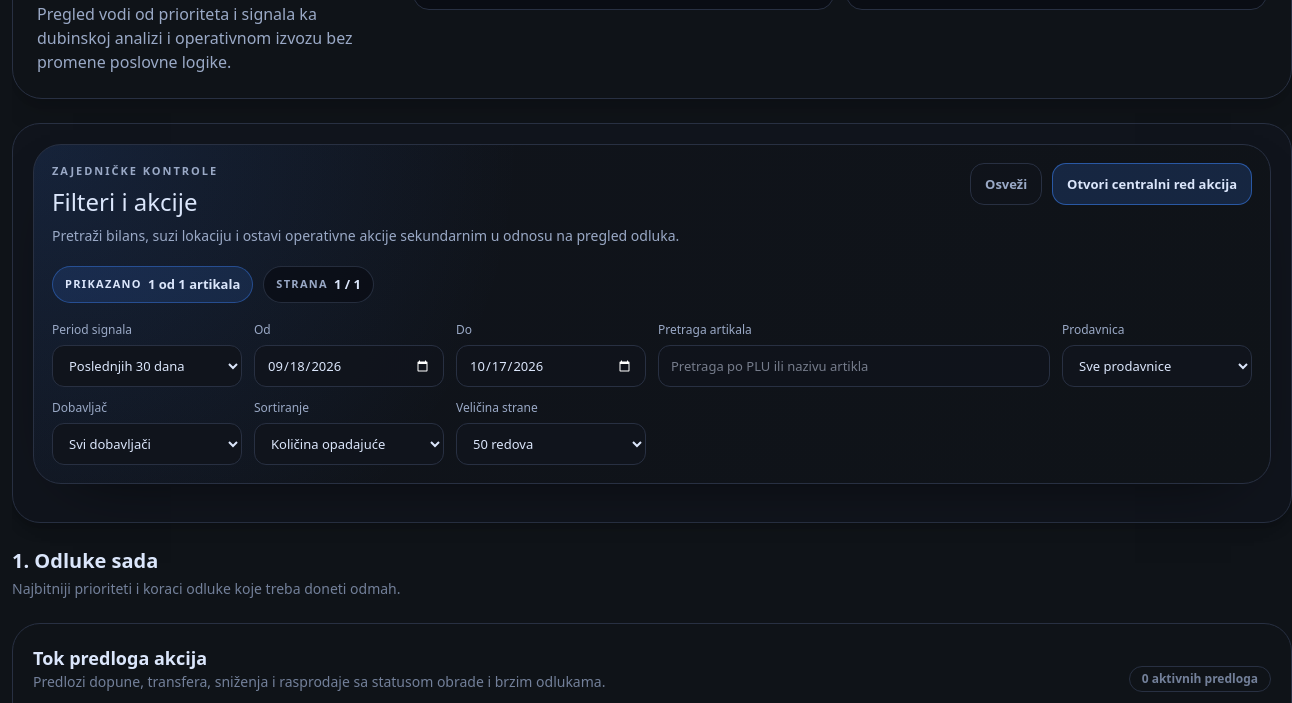
Scenario: InventoryPage forecast restock trust states › shows that signal panels do not follow text search
The image size is (1292, 703).
(page scrolled)
Type "Patike" into the search field labelled "Pretraga artikala". click: x=854, y=366
box: [658,345,1050,387]
(page scrolled)
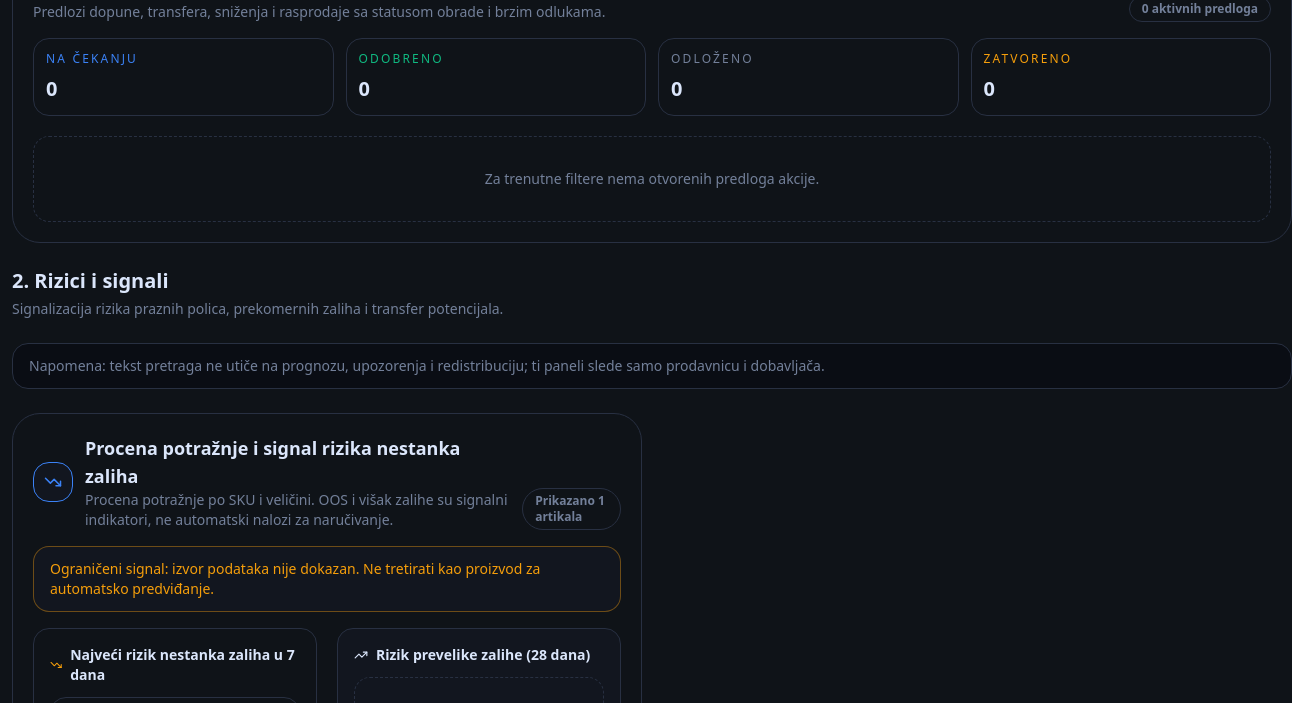
Now the text with test id "signal-lineage-note" shows "tekst pretraga ne utiče na prognozu, upozorenja i redistribuciju", box [29,356,825,375]
